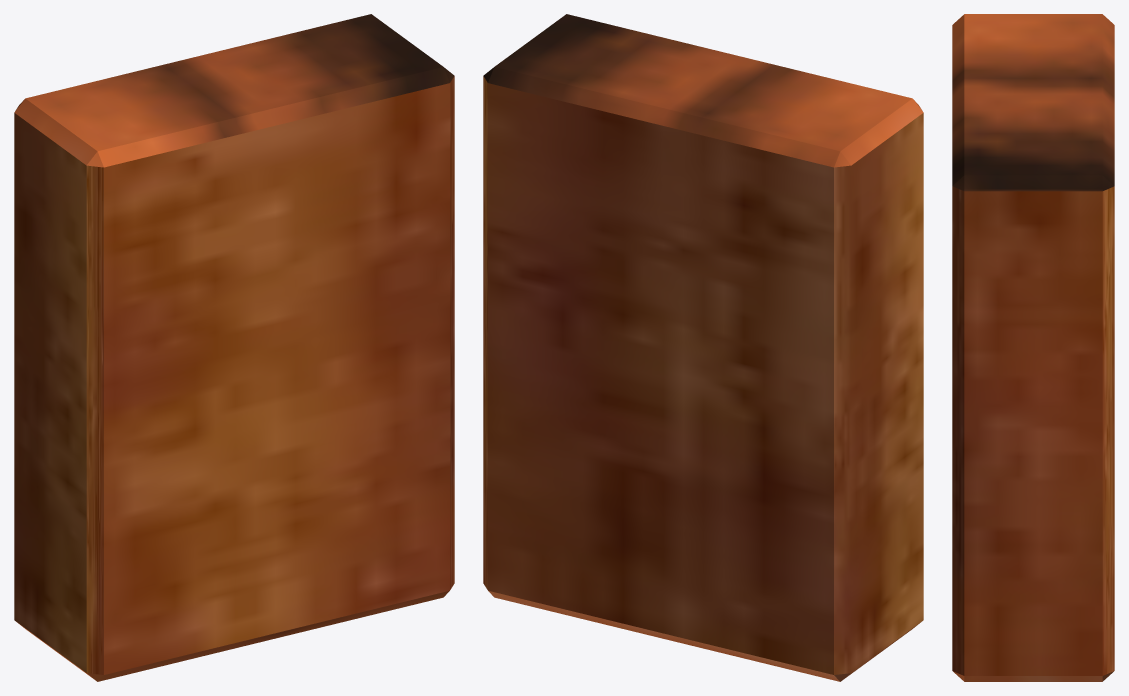
Rendered from ytsy_J_saizi_02.FBX.
The picture shows the model from 3 angles, left to right: view 1: azimuth 30°, elevation 25°; view 2: azimuth 150°, elevation 25°; view 3: azimuth 270°, elevation 25°; orthographic projection. The views are drawn at different scales.
Parts seen in each view (by area): view 1: ytsy_J_saizi_02; view 2: ytsy_J_saizi_02; view 3: ytsy_J_saizi_02.
Boxes of the visible parts, x1=… form: ytsy_J_saizi_02: x1=14, y1=14, x2=454, y2=681; ytsy_J_saizi_02: x1=483, y1=14, x2=923, y2=681; ytsy_J_saizi_02: x1=952, y1=14, x2=1114, y2=681.
Size of the model in its own units: 2 by 2.76 by 0.8.
